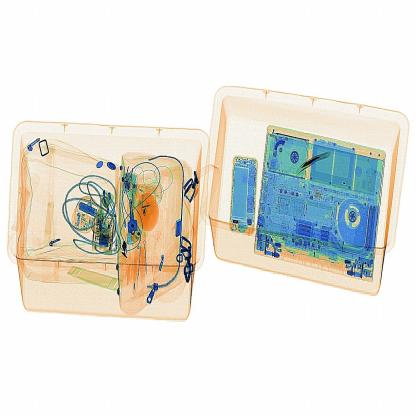wrench: (290, 142, 336, 178)
